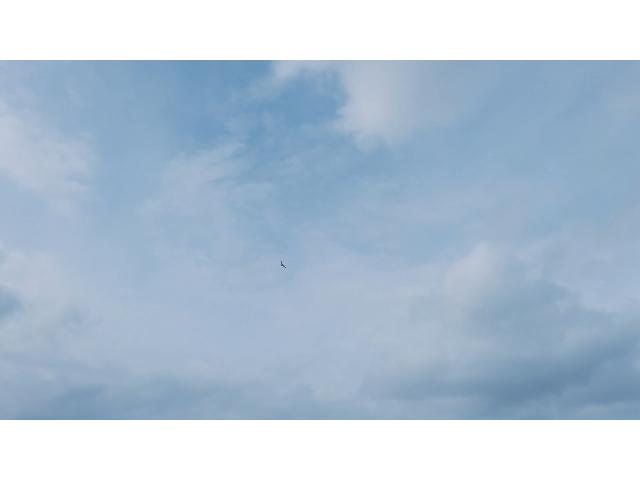Anti-Drone: (278, 259, 288, 271)
